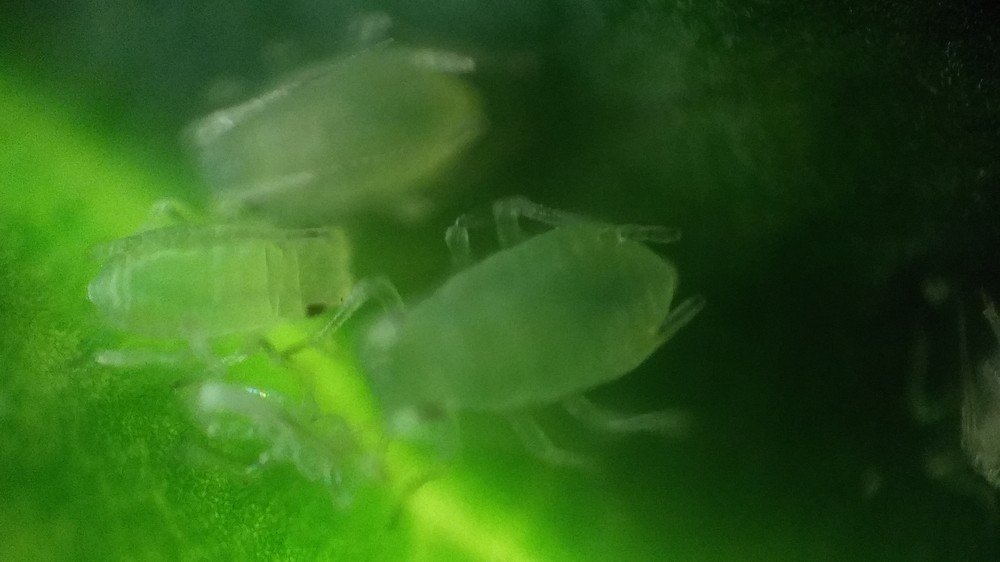Pulgon: (321, 191, 740, 492), (168, 17, 516, 256), (81, 188, 391, 411)
